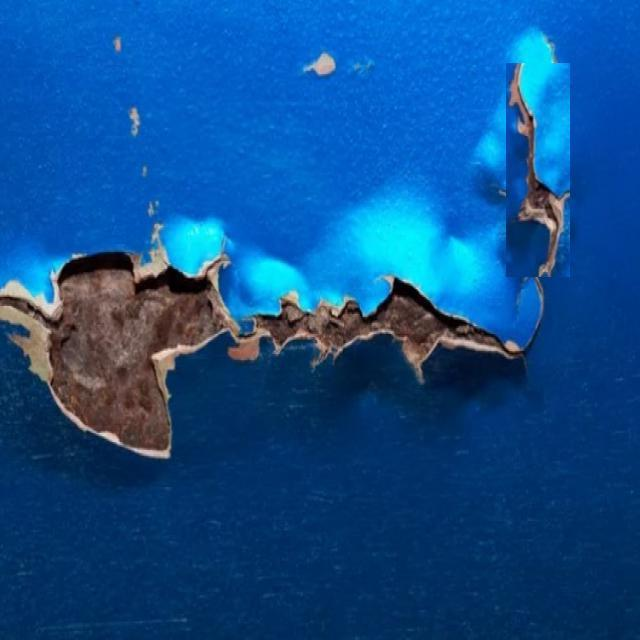Corrosion: (0, 242, 525, 458), (507, 63, 571, 278)
